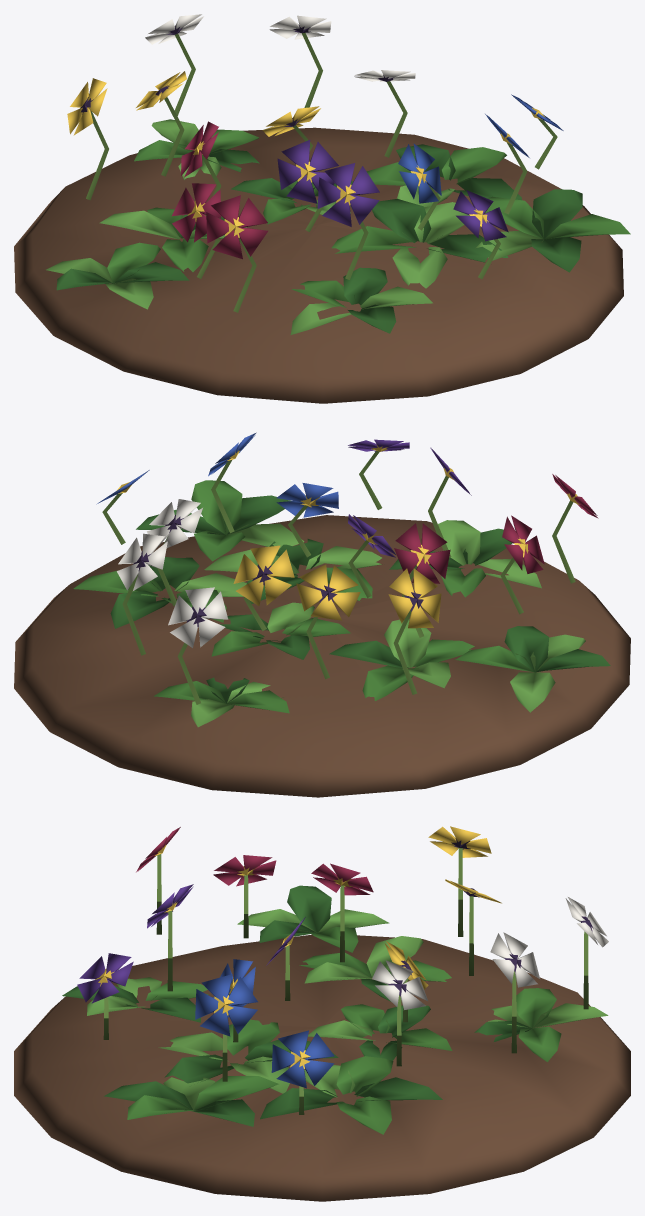
Rendered from pansies.glb.
3 views of the same model, one above another, from view 1: azimuth 30°, elevation 25°; view 2: azimuth 150°, elevation 25°; view 3: azimuth 270°, elevation 25° (orthographic). The views are drawn at different scales.
Visible parts, largest first — view 1: pansies; view 2: pansies; view 3: pansies.
Boxes of the visible parts, x1,y1,x2,y2 form: pansies: [14, 14, 630, 403]; pansies: [14, 432, 630, 797]; pansies: [14, 826, 630, 1201].
Bounding box in the file's own units: 0.84 × 0.264 × 0.84.
